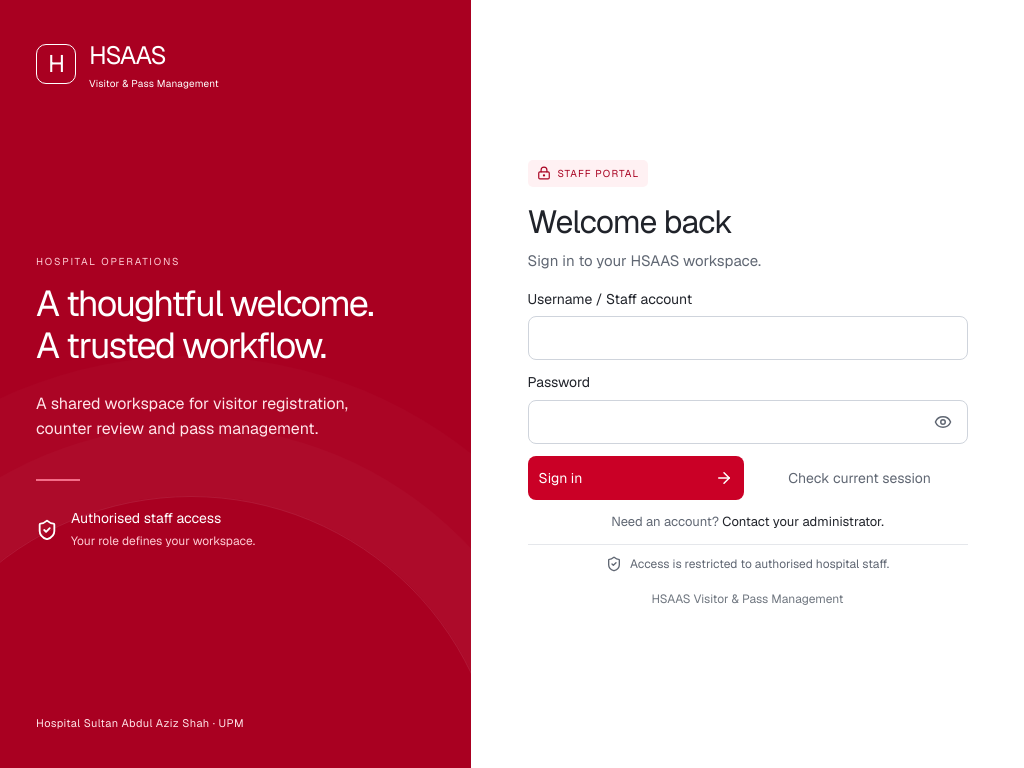
Test: review regressions: local logout and explicit unknown-login recovery › reports an anonymous lookup explicitly after unknown login without replaying credentials
The image size is (1024, 768).
In the field labelled "Username / Staff account": (748, 338) 528,316 -> 968,360, type "staff_01"
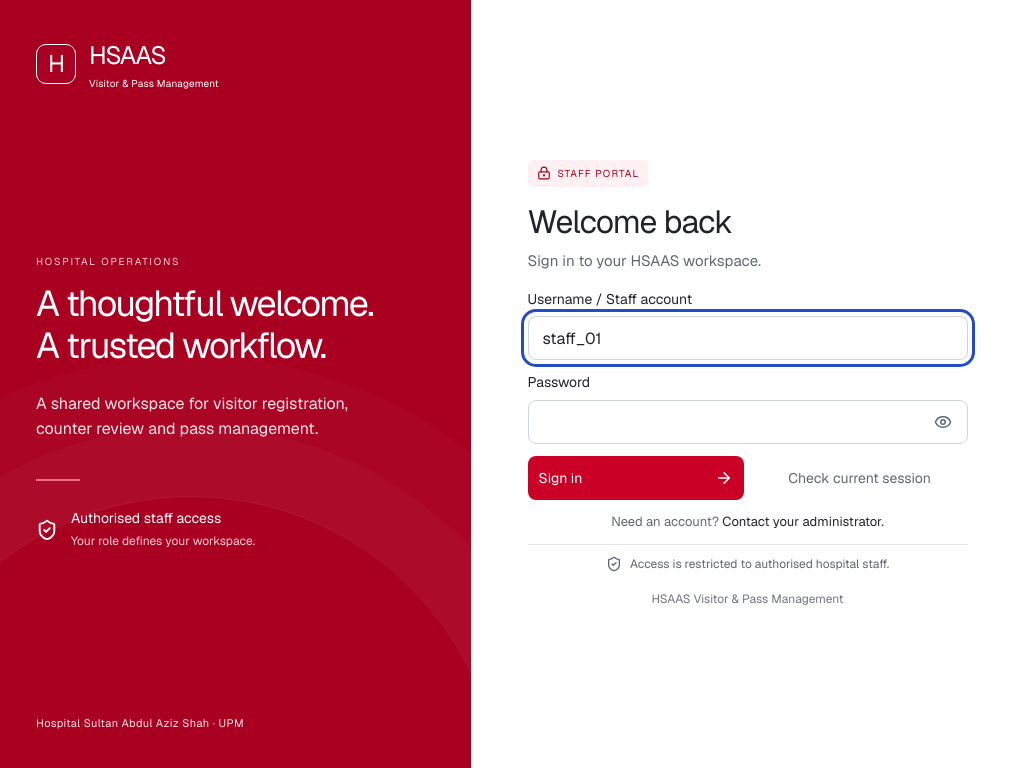
In the password field labelled "Password": (748, 422) 528,400 -> 968,444, type "fixture-only"
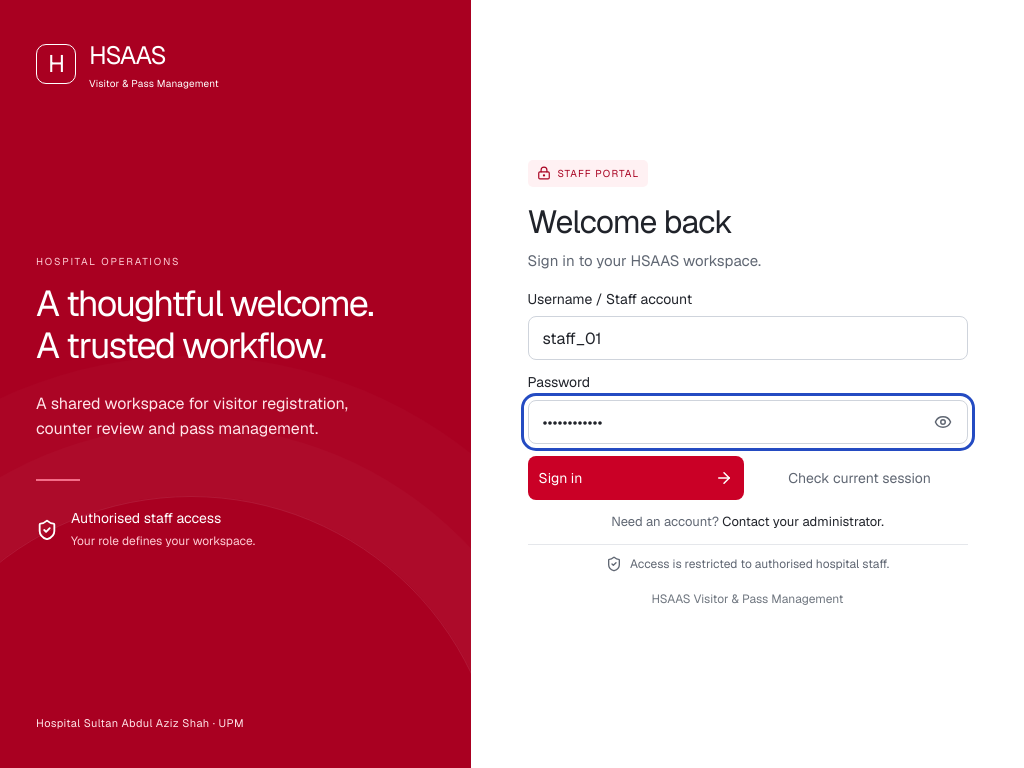
Click the button "Sign in": (636, 478) 528,456 -> 744,500
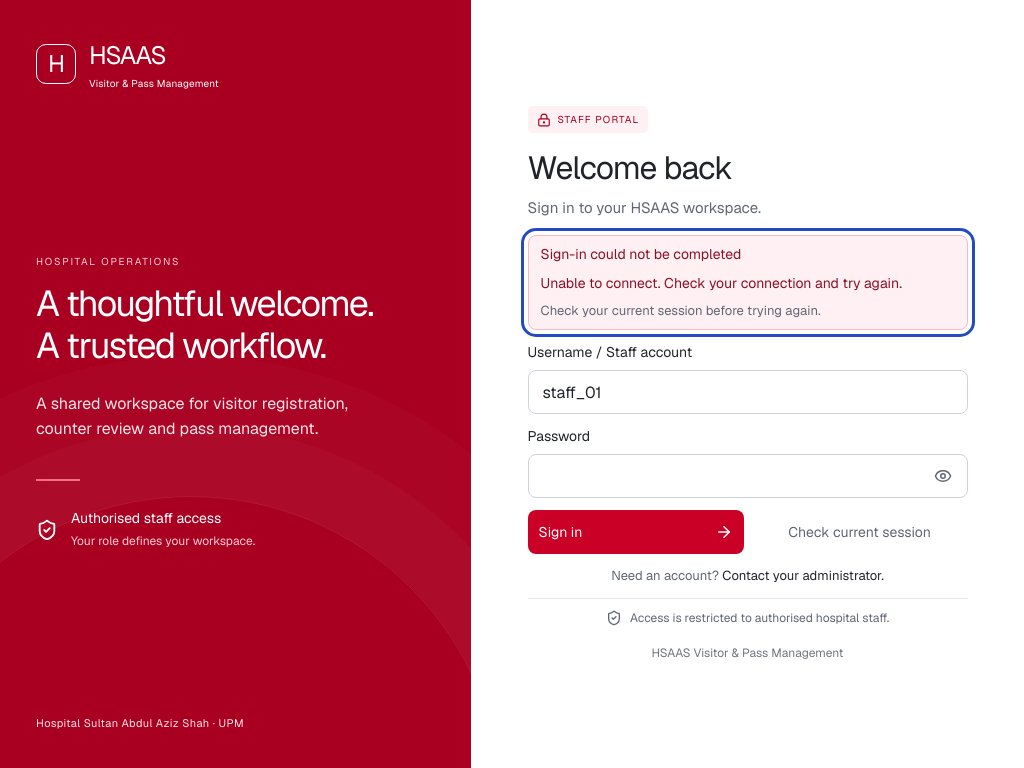
Check: the message is shown, box 528,235 -> 968,330
Click the button "Check current session": (860, 532) 752,510 -> 968,554
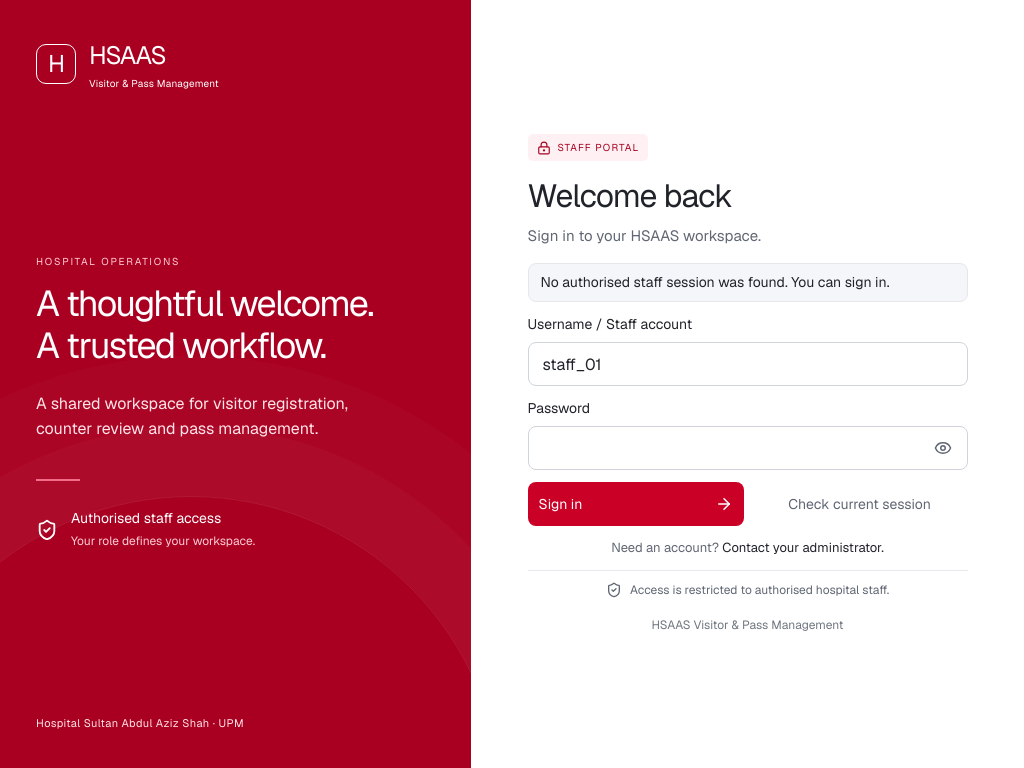
Check: the text "No authorised staff session was found. You can sign in." is shown, box 528,263 -> 968,302
Check: the text "Unable to connect" is gone
